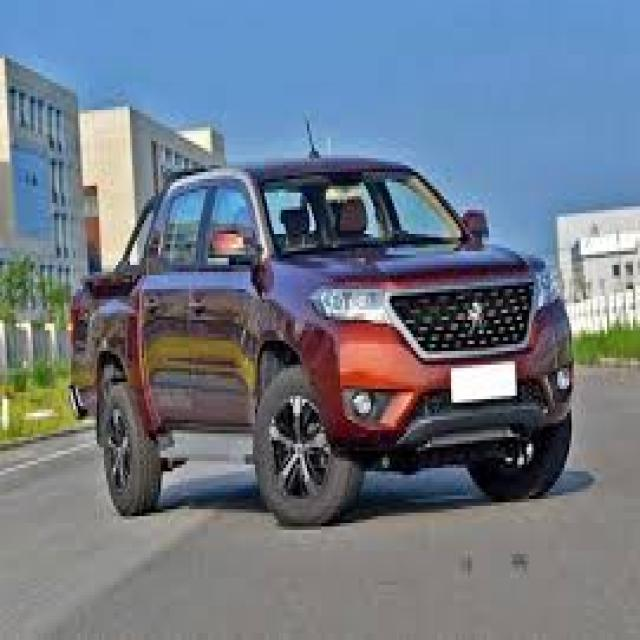Pickup Trucks: (71, 155, 576, 526)
